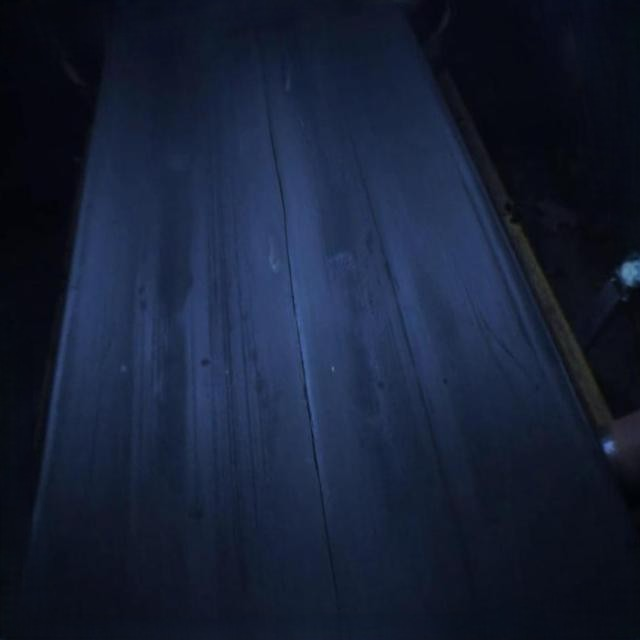Tear: (245, 33, 358, 640)
